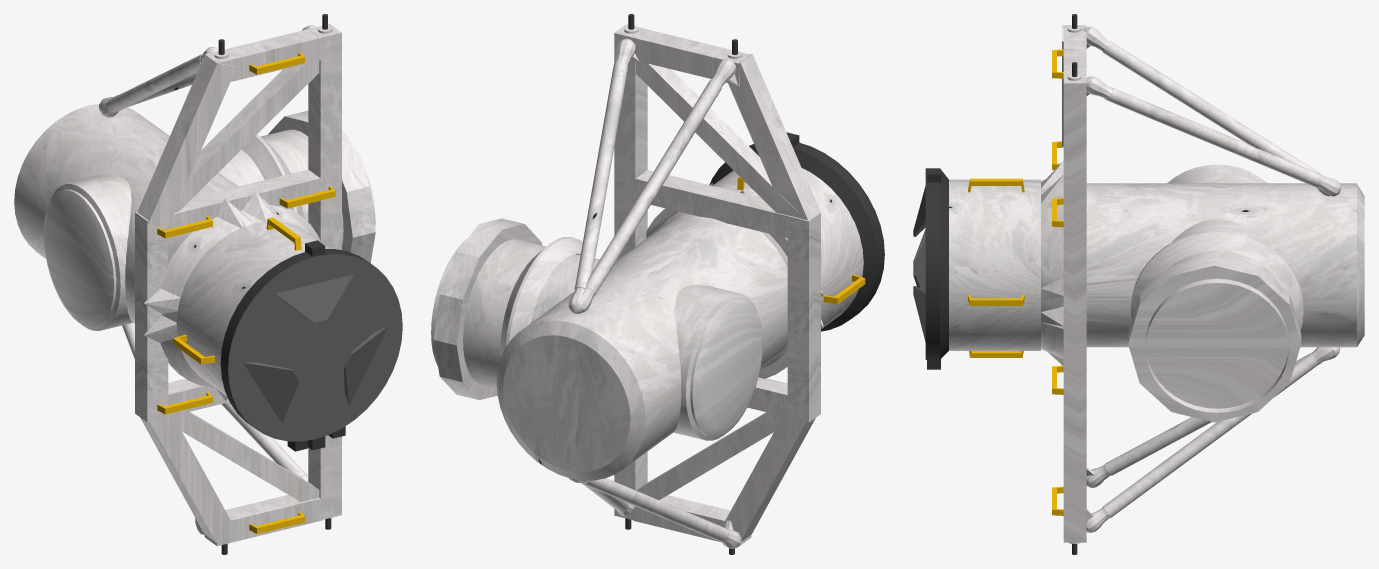
The model's file is ods.FBX.
The picture shows the model from 3 angles, left to right: view 1: azimuth 30°, elevation 25°; view 2: azimuth 150°, elevation 25°; view 3: azimuth 270°, elevation 25°; orthographic projection. The views are drawn at different scales.
Parts seen in each view (by area): view 1: ods.layer1; view 2: ods.layer1; view 3: ods.layer1.
Part boxes in pixels (<box>): ods.layer1: <box>14,14,402,554</box>; ods.layer1: <box>431,14,884,554</box>; ods.layer1: <box>913,14,1364,554</box>.
Bounding box in the file's own units: 107 × 160 × 192.
4 materials, 1 textured.
